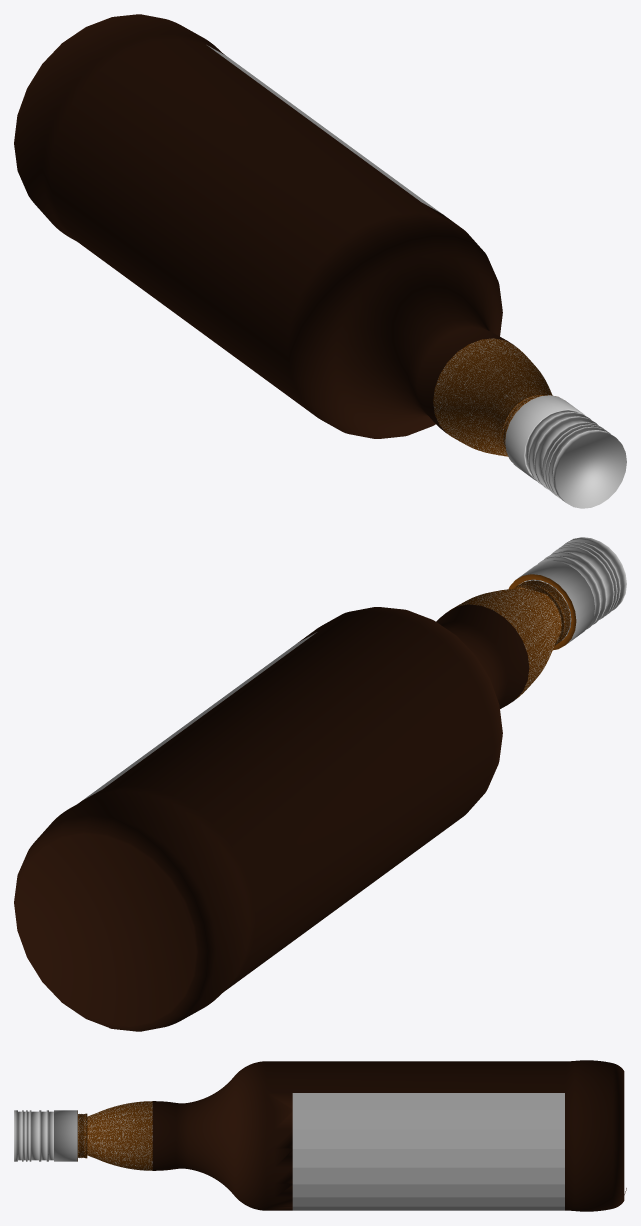
Rendered from model_align.obj.
3 views of the same model, one above another, from view 1: azimuth 30°, elevation 25°; view 2: azimuth 150°, elevation 25°; view 3: azimuth 270°, elevation 25° (orthographic). The views are drawn at different scales.
Visible parts, largest first — view 1: mesh1_mesh1-geometry, mesh2_mesh2-geometry; view 2: mesh1_mesh1-geometry, mesh2_mesh2-geometry; view 3: mesh1_mesh1-geometry, mesh2_mesh2-geometry.
Part boxes in pixels (left/top/right/bottom): mesh1_mesh1-geometry: left=14, top=14, right=552, bottom=456; mesh2_mesh2-geometry: left=505, top=395, right=626, bottom=508; mesh1_mesh1-geometry: left=14, top=580, right=570, bottom=1031; mesh2_mesh2-geometry: left=508, top=537, right=626, bottom=650; mesh1_mesh1-geometry: left=78, top=1060, right=626, bottom=1211; mesh2_mesh2-geometry: left=14, top=1110, right=77, bottom=1161.
Size of the model in its own units: 0.0615 by 0.0615 by 0.2481.
